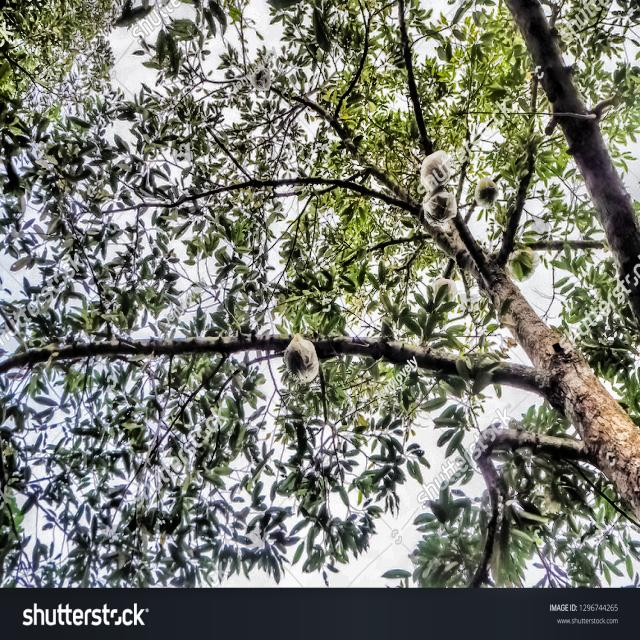arvore: (447, 229, 640, 535)
